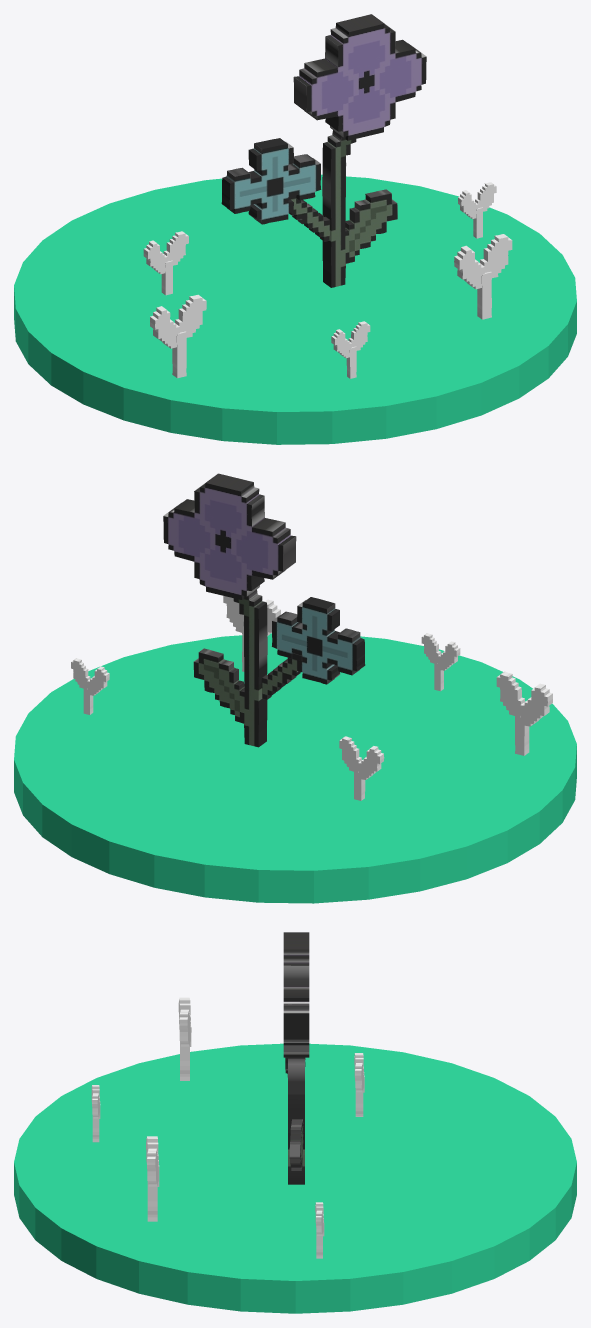
File: asset.glb
3 views of the same model, one above another, from view 1: azimuth 30°, elevation 25°; view 2: azimuth 150°, elevation 25°; view 3: azimuth 270°, elevation 25° (orthographic).
Visible parts, largest first — view 1: Cylinder, plantemauve, plantine1.003, plantine1, plantine1.004, plantine1.001, plantine1.002; view 2: Cylinder, plantemauve, plantine1, plantine1.004, plantine1.002, plantine1.001, plantine1.003; view 3: Cylinder, plantemauve, plantine1.003, plantine1, plantine1.004, plantine1.001.
Boxes of the visible parts, left/top/right/bottom form: Cylinder: left=14, top=174, right=576, bottom=444; plantemauve: left=221, top=14, right=426, bottom=287; plantine1.003: left=454, top=234, right=512, bottom=319; plantine1: left=150, top=294, right=206, bottom=378; plantine1.004: left=143, top=231, right=188, bottom=295; plantine1.001: left=331, top=321, right=370, bottom=378; plantine1.002: left=458, top=182, right=496, bottom=238; Cylinder: left=14, top=633, right=576, bottom=903; plantemauve: left=163, top=473, right=365, bottom=747; plantine1: left=496, top=671, right=552, bottom=755; plantine1.004: left=339, top=736, right=384, bottom=800; plantine1.002: left=71, top=658, right=109, bottom=714; plantine1.001: left=421, top=633, right=460, bottom=691; plantine1.003: left=223, top=596, right=280, bottom=671; Cylinder: left=14, top=1043, right=576, bottom=1313; plantemauve: left=283, top=932, right=309, bottom=1184; plantine1.003: left=146, top=1136, right=159, bottom=1221; plantine1: left=178, top=997, right=191, bottom=1080; plantine1.004: left=354, top=1053, right=364, bottom=1116; plantine1.001: left=91, top=1085, right=100, bottom=1142.
Size of the model in its own units: 31.27 by 17.52 by 31.27.
3 materials, 1 textured.
